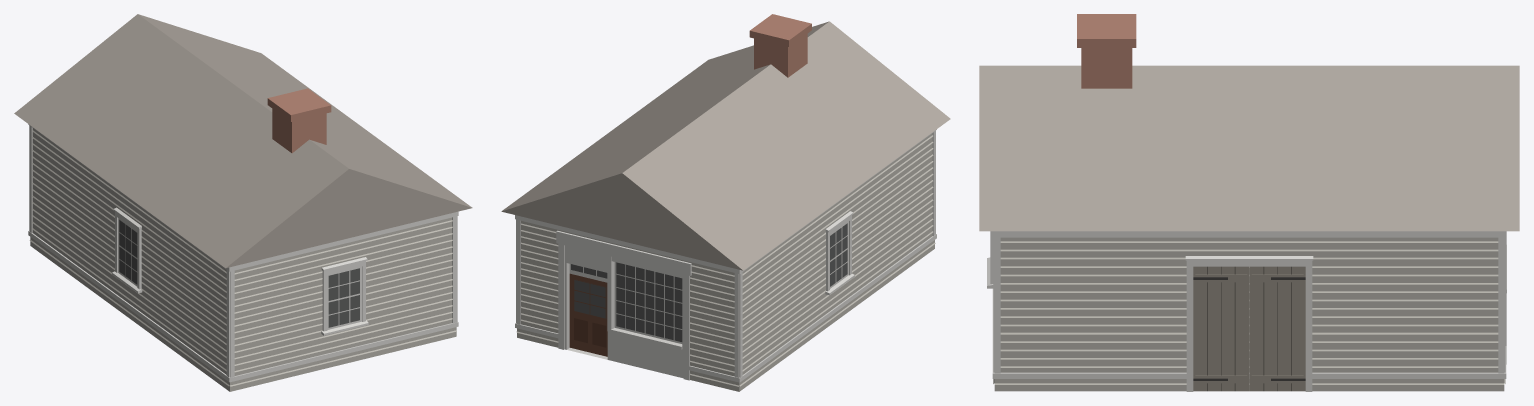
File: recon_1835_core_c1_027__inferred_1835.glb
3 renders of one model, left to right at view 1: azimuth 30°, elevation 25°; view 2: azimuth 150°, elevation 25°; view 3: azimuth 270°, elevation 25°, orthographic. The views are drawn at different scales.
Visible parts, largest first — view 1: recon_1835_core_c1_027__inferred_1835; view 2: recon_1835_core_c1_027__inferred_1835; view 3: recon_1835_core_c1_027__inferred_1835.
Boxes of the visible parts, <box> form: recon_1835_core_c1_027__inferred_1835: <box>14,14,472,391</box>; recon_1835_core_c1_027__inferred_1835: <box>501,14,950,391</box>; recon_1835_core_c1_027__inferred_1835: <box>979,14,1519,391</box>.
Size of the model in its own units: 6.02 by 5.36 by 8.91.
